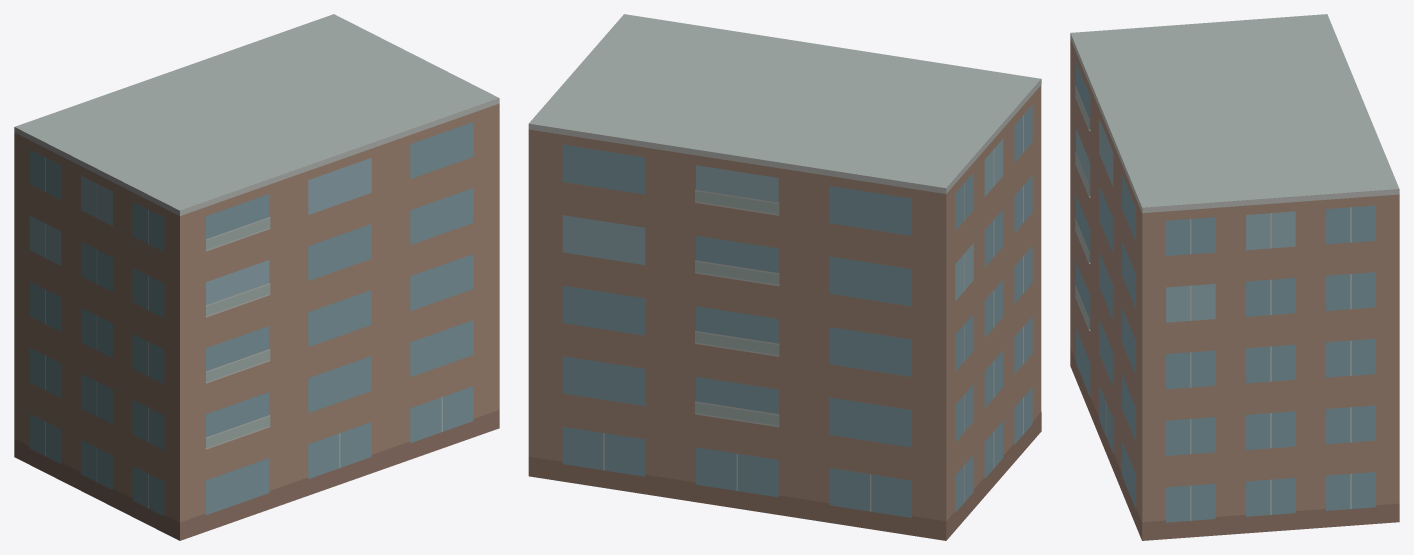
File: survey-upis-32734490.glb
The picture shows the model from 3 angles, left to right: view 1: azimuth 30°, elevation 25°; view 2: azimuth 150°, elevation 25°; view 3: azimuth 270°, elevation 25°; orthographic projection. The views are drawn at different scales.
Visible parts, largest first — view 1: survey-upis-32734490.tmp; view 2: survey-upis-32734490.tmp; view 3: survey-upis-32734490.tmp.
Part boxes in pixels (<box>): survey-upis-32734490.tmp: <box>14,14,499,540</box>; survey-upis-32734490.tmp: <box>528,14,1041,540</box>; survey-upis-32734490.tmp: <box>1070,14,1399,540</box>.
Bounding box in the file's own units: 18.47 × 14.8 × 13.26.
